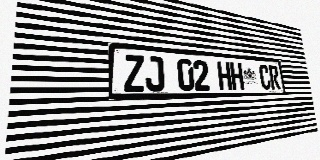0: (177, 58, 195, 91)
2: (193, 59, 210, 91)
C: (258, 64, 271, 90)
H: (217, 61, 232, 90), (230, 62, 244, 90)
J: (145, 56, 165, 91)
R: (268, 65, 281, 90)
Z: (124, 54, 145, 92)
